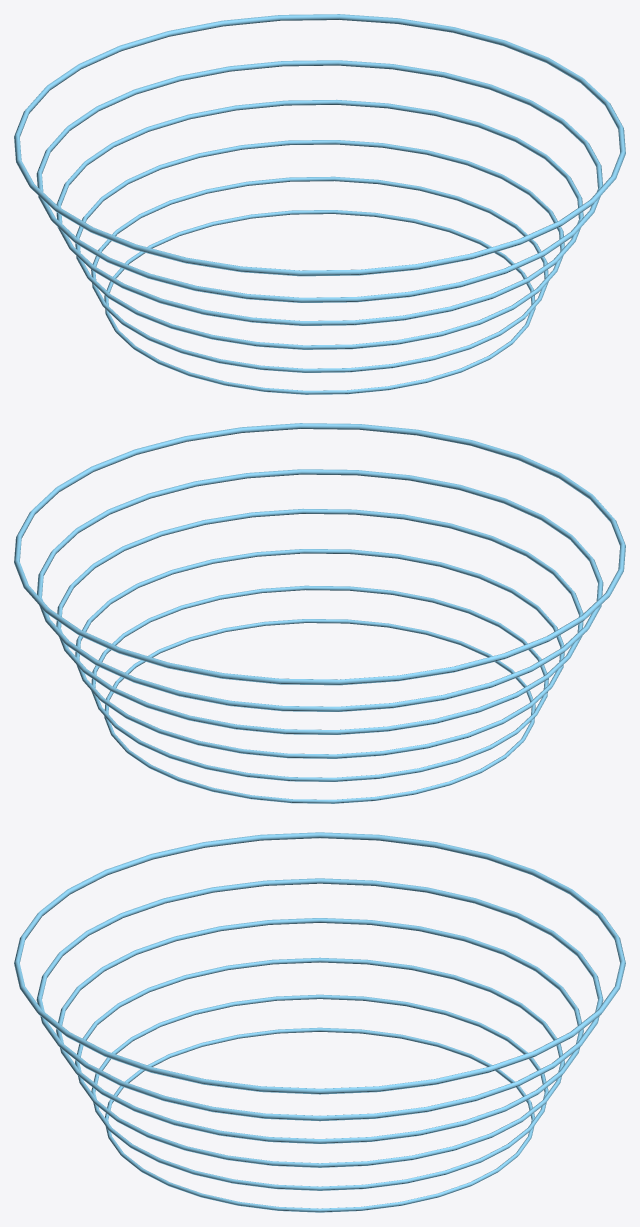
The model's file is effect_portal1.obj.
3 renders of one model, top to bottom at view 1: azimuth 30°, elevation 25°; view 2: azimuth 150°, elevation 25°; view 3: azimuth 270°, elevation 25°, orthographic.
Parts seen in each view (by area): view 1: effect_portal1; view 2: effect_portal1; view 3: effect_portal1.
Boxes of the visible parts, box(x1,y1,x2,y2) form: effect_portal1: box(14, 14, 625, 394); effect_portal1: box(14, 423, 625, 803); effect_portal1: box(14, 832, 625, 1212).
Bounding box in the file's own units: 66.65 × 19.42 × 66.65.
Materials: 1 (1 with a texture image).
